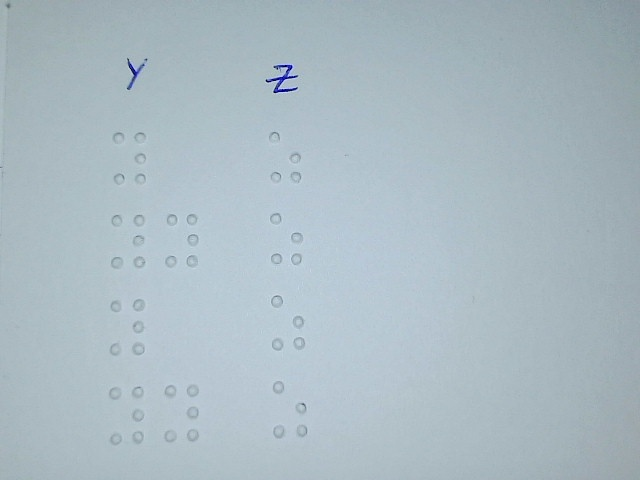Y: (108, 296, 147, 358), (162, 382, 201, 444), (107, 383, 146, 445), (110, 130, 149, 186), (163, 211, 202, 267)
Z: (271, 378, 308, 439), (267, 129, 304, 185), (268, 210, 305, 266), (270, 294, 307, 350)
